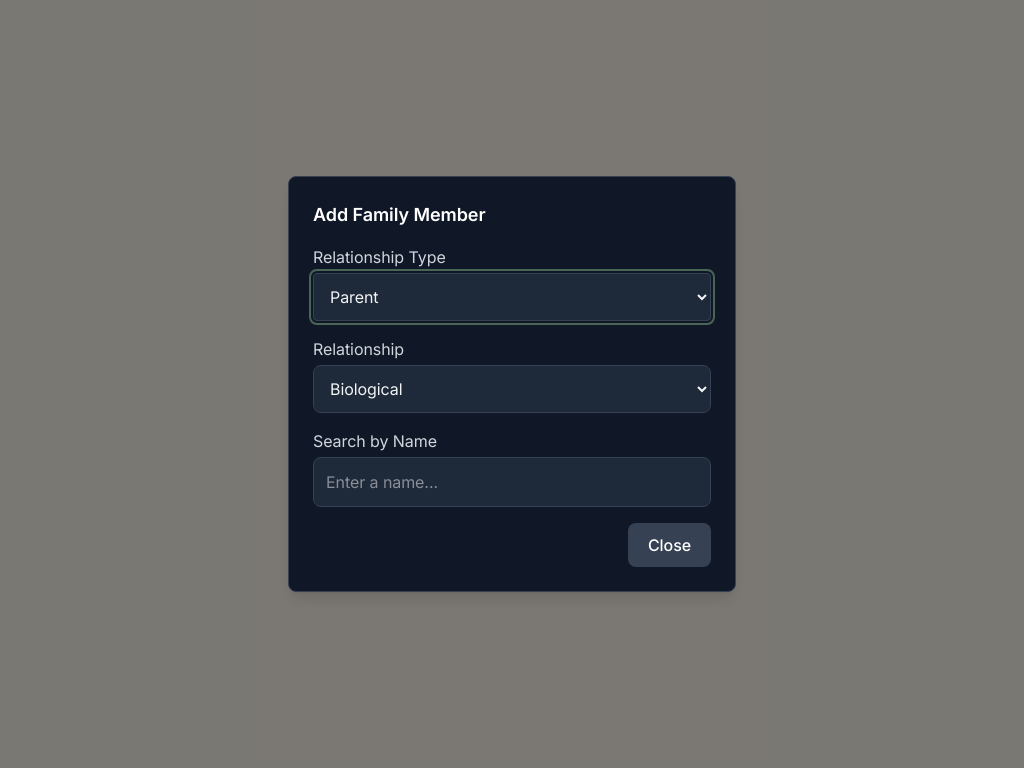
Scenario: AddMemberModal error handling › keeps the modal open when addPerson throws in the create-and-link flow
Step 1. Type "Grace Hopper" into the field with placeholder "Enter a name..." → (512, 482), box x1=313 y1=457 x2=711 y2=507
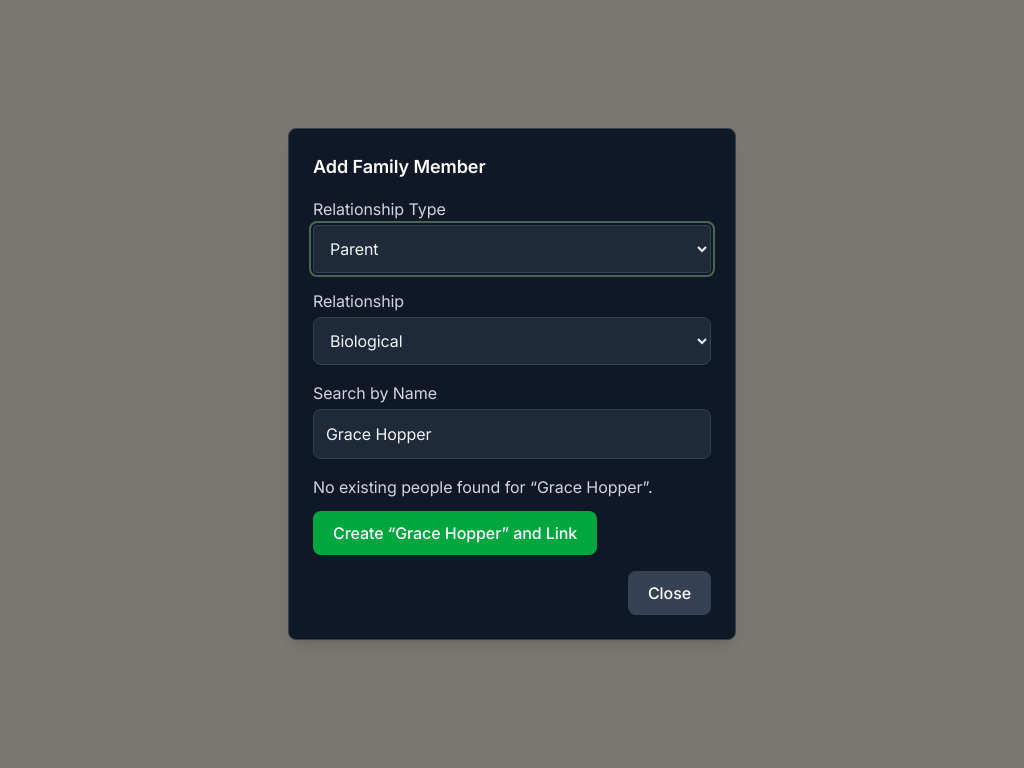
Step 2. Click the button "Create “Grace Hopper” and Link" → (455, 533), box x1=313 y1=511 x2=597 y2=555
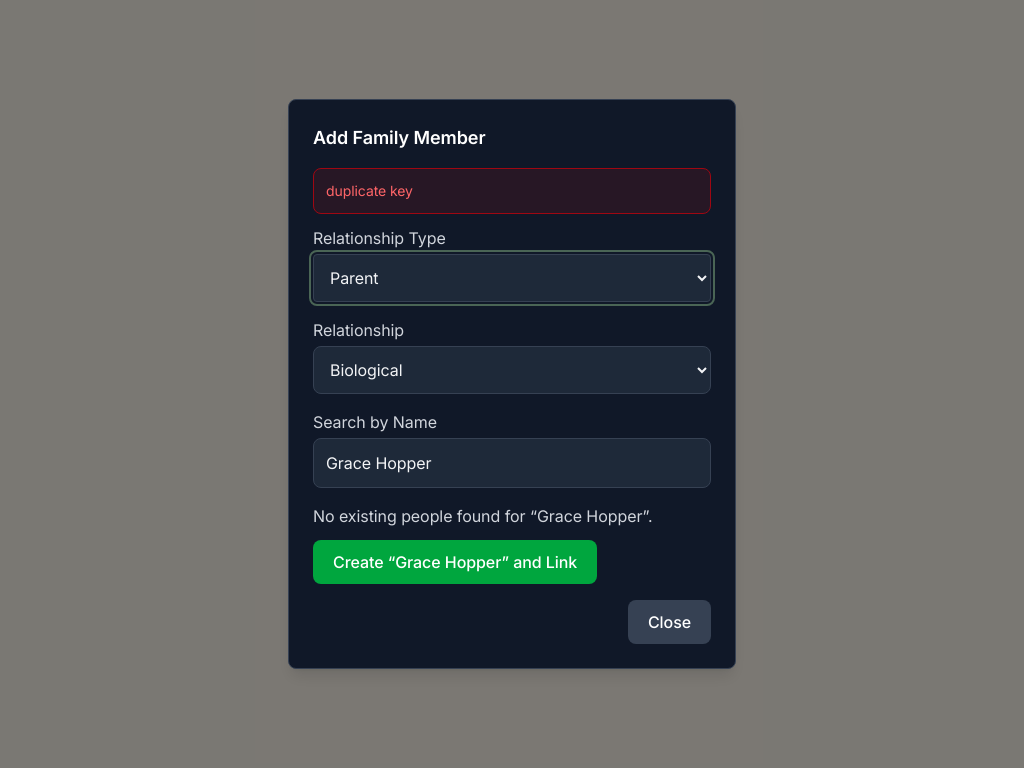
Now the message reads "duplicate key", box x1=326 y1=182 x2=413 y2=199
